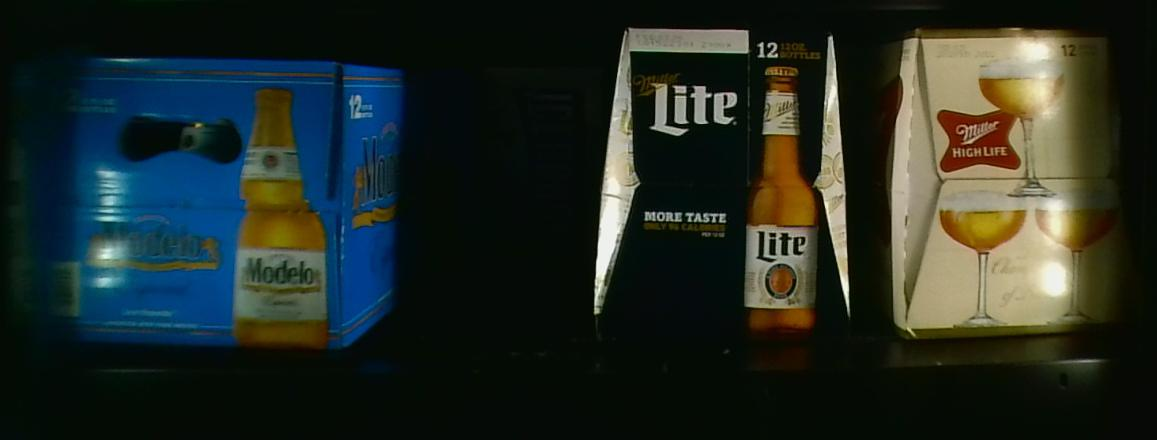bottle: (7, 49, 374, 352), (892, 27, 1141, 342), (613, 13, 828, 346), (456, 39, 597, 218)
